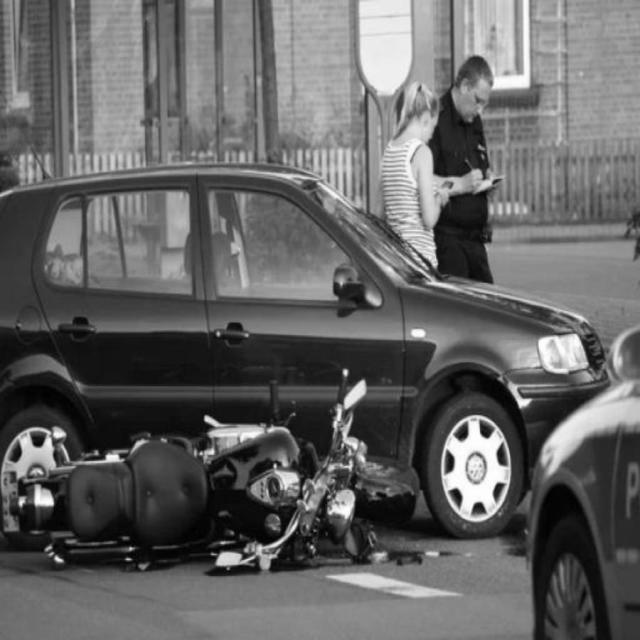accident: (3, 181, 613, 577)
person: (430, 55, 507, 289), (385, 85, 451, 269)
